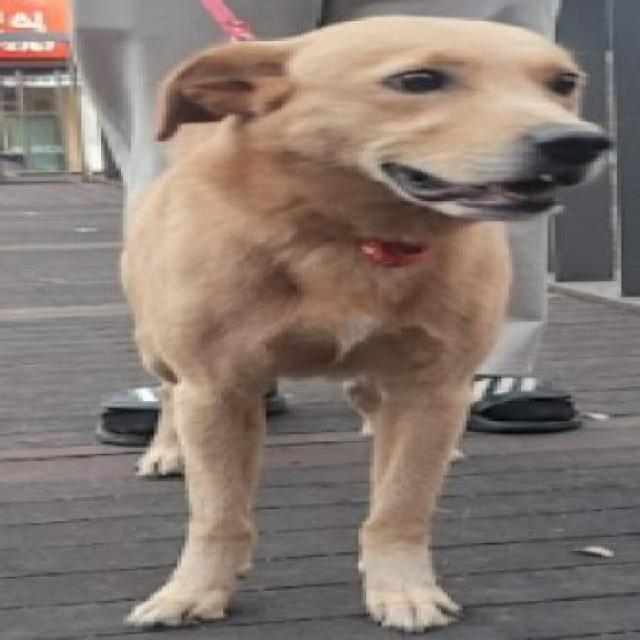Dog: (89, 9, 622, 638)
